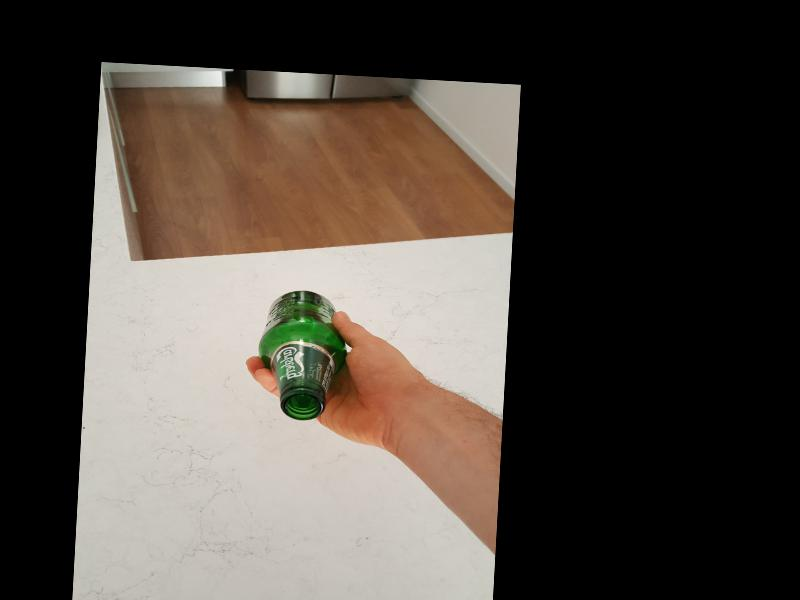Beer: (256, 287, 348, 422)
